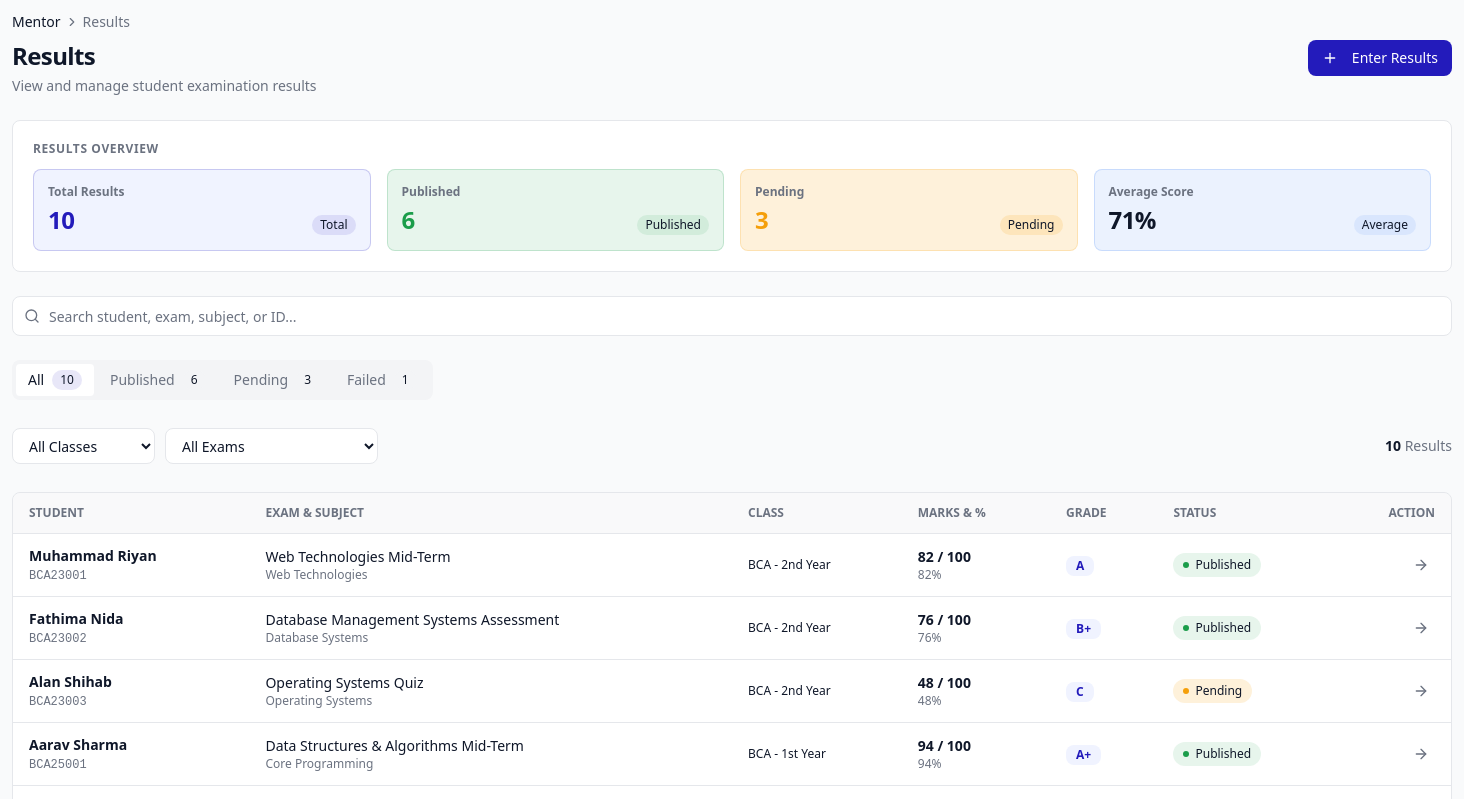
Mentor Results Page › filters results by status tab
The image size is (1464, 799).
// Click 'Pending' filter tab
Click the tab "Pending 3". click: click(276, 380)
box: [222, 364, 331, 396]
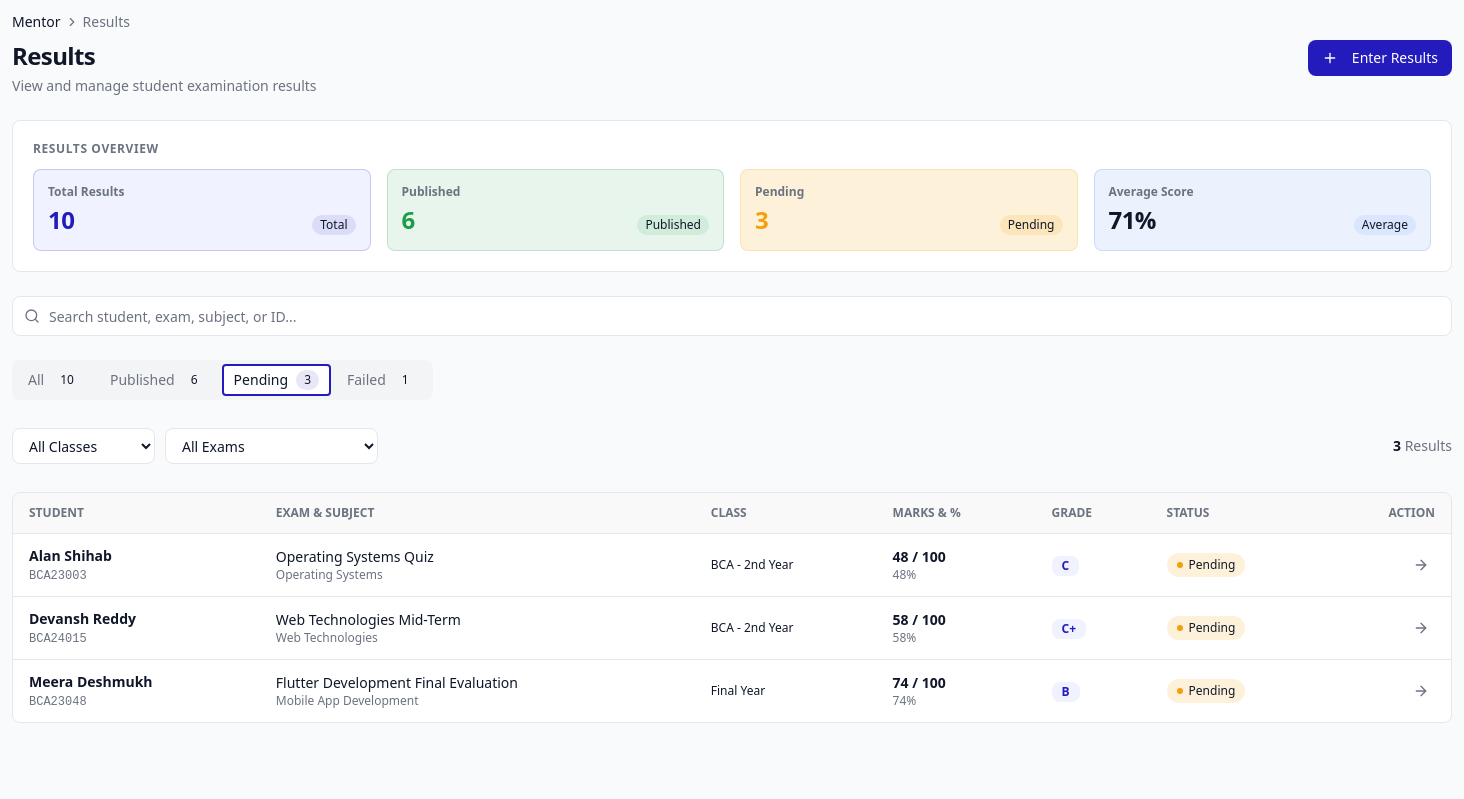
Expected: the text "Alan Shihab" is shown, [29, 546, 112, 565]
Expected: the text "Muhammad Riyan" is gone
